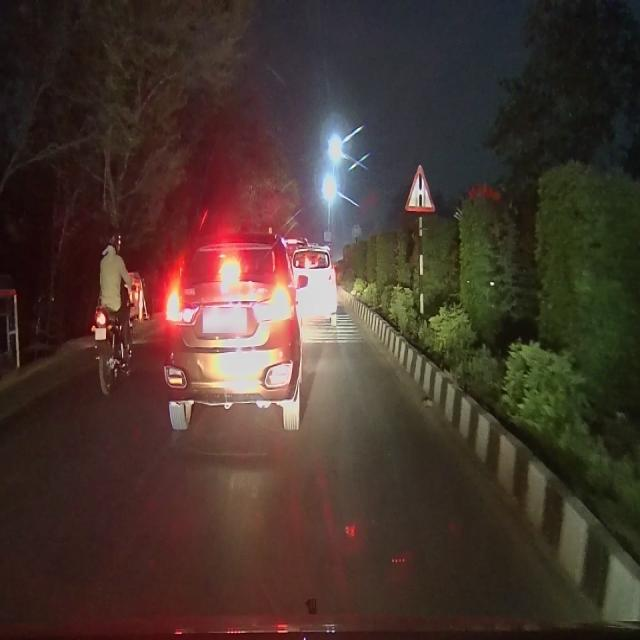car ahead at: (166, 236, 304, 440)
motorcycle ahead at: (88, 300, 140, 397)
sign board ahead at: (400, 158, 434, 226)
